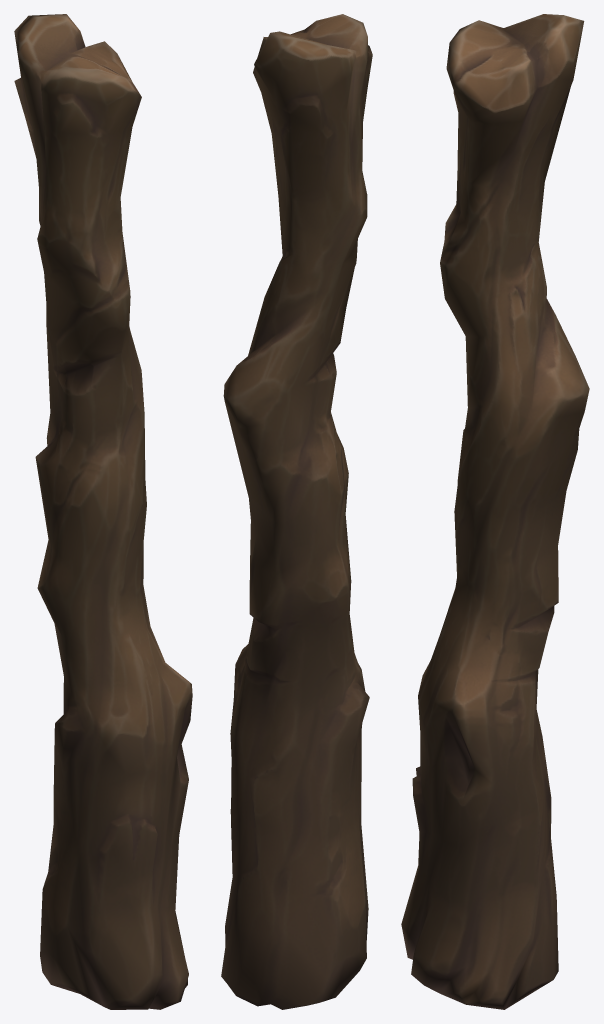
The model's file is SM_FW01_RoadsignPost_04.fbx.
3 views of the same model, side by side, from view 1: azimuth 30°, elevation 25°; view 2: azimuth 150°, elevation 25°; view 3: azimuth 270°, elevation 25° (orthographic). The views are drawn at different scales.
Visible parts, largest first — view 1: SM_FW01_RoadsignPost_04_LOD0; view 2: SM_FW01_RoadsignPost_04_LOD0; view 3: SM_FW01_RoadsignPost_04_LOD0.
Boxes of the visible parts, bbox=[...] form: SM_FW01_RoadsignPost_04_LOD0: bbox=[14, 14, 192, 1009]; SM_FW01_RoadsignPost_04_LOD0: bbox=[221, 14, 372, 1009]; SM_FW01_RoadsignPost_04_LOD0: bbox=[401, 14, 589, 1009].
Size of what is drawn, in the model's own units: 0.31 by 2.07 by 0.3728.
